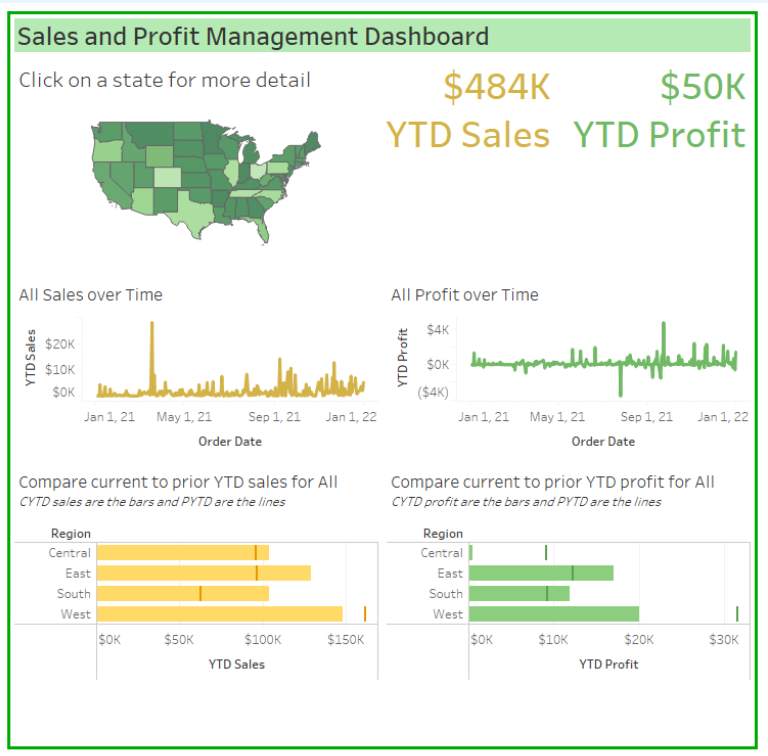

What the dashboard file says about the page in this screenshot:
{"tool":"tableau","page":{"name":"Sales and Profit Management Dashboard","canvas":[650,700],"ordinal":0},"visuals":[{"type":"title","box":[16,16,618,108]},{"type":"worksheet","title":"Profit Map","mark":"Automatic","box":[16,124,200,141.7]},{"type":"worksheet","title":"YTD Sales","mark":"Automatic","box":[216,124,209,141.7]},{"type":"worksheet","title":"YTD Profit","mark":"Automatic","box":[425,124,209,141.7]},{"type":"worksheet","title":"Sales Sparkline","mark":"Automatic","rows":["Calculation_685954551316455424"],"cols":["Order Date"],"box":[16,265.7,309,197.4]},{"type":"worksheet","title":"Profit Sparkline","mark":"Automatic","rows":["YTD Sales (copy)_685954551318130689"],"cols":["Order Date"],"box":[325,265.7,309,197.4]},{"type":"worksheet","title":"Sales Dual Axis","mark":"Bar","rows":["Region"],"cols":["Calculation_685954551316455424","Calculation_685954551321833475"],"box":[16,463.1,309,220.9]},{"type":"worksheet","title":"Profit Dual Axis","mark":"Bar","rows":["Region"],"cols":["YTD Sales (copy)_685954551318130689","Prior YTD Sales (copy)_685954551322546180"],"box":[325,463.1,309,220.9]}]}

Visuals, with their boxes on the page's 650x700 design canvas (x1, y1, x2, y2). These are canvas units, not pixel positions in the 768x756 screenshot, which may show the page scaled, cropped or inside an application window:
title: x1=16, y1=16, x2=634, y2=124
"Profit Map" worksheet: x1=16, y1=124, x2=216, y2=266
"YTD Sales" worksheet: x1=216, y1=124, x2=425, y2=266
"YTD Profit" worksheet: x1=425, y1=124, x2=634, y2=266
"Sales Sparkline" worksheet: x1=16, y1=266, x2=325, y2=463
"Profit Sparkline" worksheet: x1=325, y1=266, x2=634, y2=463
"Sales Dual Axis" worksheet (Bar marks): x1=16, y1=463, x2=325, y2=684
"Profit Dual Axis" worksheet (Bar marks): x1=325, y1=463, x2=634, y2=684
